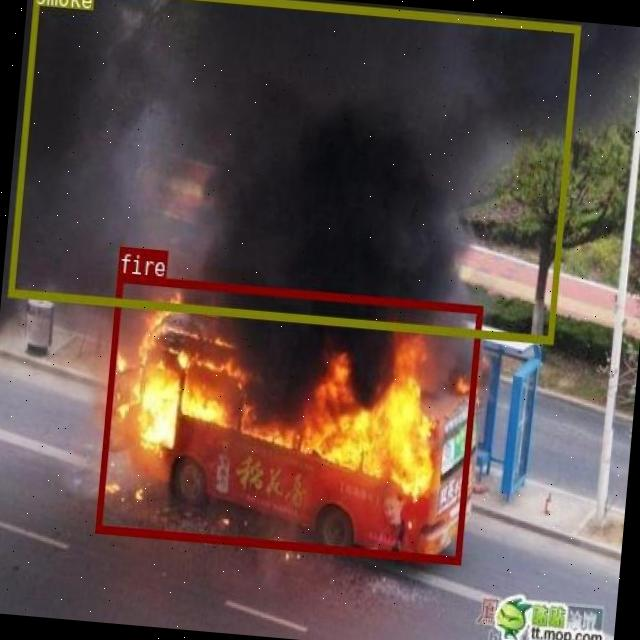fire: (94, 272, 481, 563)
smoke: (6, 0, 580, 342)
